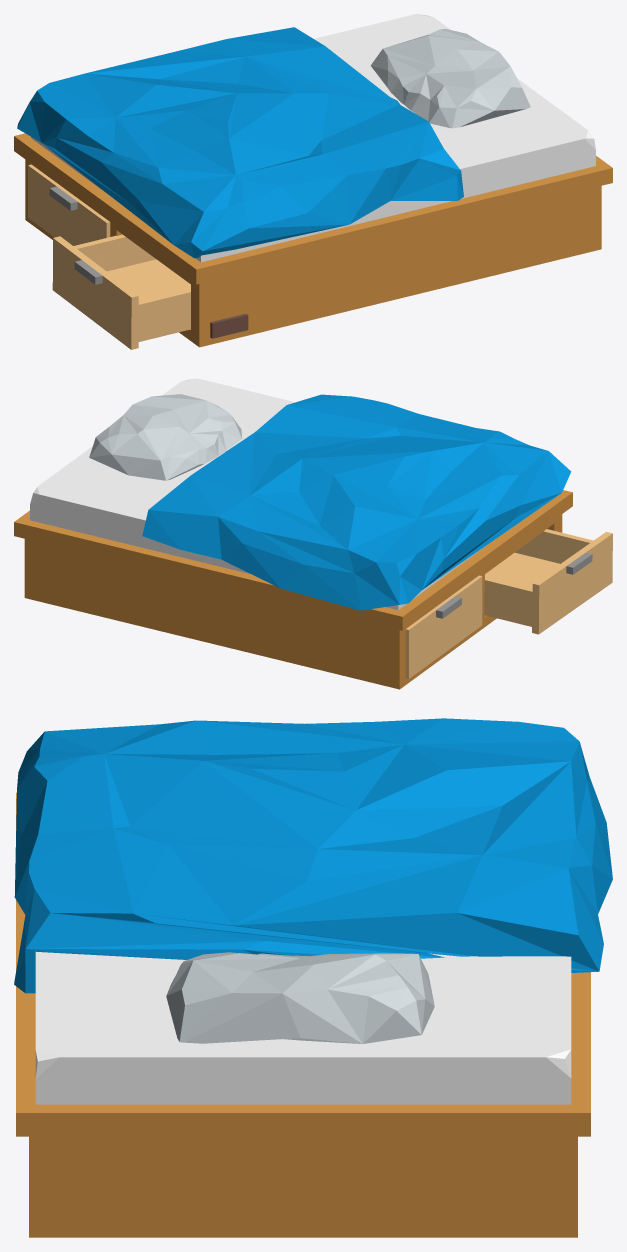
3 views of the same model, one above another, from view 1: azimuth 30°, elevation 25°; view 2: azimuth 150°, elevation 25°; view 3: azimuth 270°, elevation 25° (orthographic). The views are drawn at different scales.
Visible parts, largest first — view 1: mesh_650785582, mesh_873723508, mesh_226031731, mesh_1163561573, group_1793700176, mesh_1608457623, group_1022306024, mesh_1998901131; view 2: mesh_650785582, mesh_873723508, mesh_226031731, mesh_1163561573, group_1793700176, mesh_1608457623, group_1022306024; view 3: mesh_650785582, mesh_226031731, mesh_873723508, mesh_1163561573, mesh_1608457623.
Part boxes in pixels (x1,y1,x2,y2): mesh_650785582: (17, 27, 463, 258); mesh_873723508: (25, 159, 601, 347); mesh_226031731: (31, 14, 595, 262); mesh_1163561573: (14, 133, 612, 284); group_1793700176: (52, 234, 190, 349); mesh_1608457623: (370, 28, 530, 128); group_1022306024: (28, 164, 110, 245); mesh_1998901131: (210, 313, 248, 338); mesh_650785582: (142, 394, 571, 610); mesh_873723508: (24, 514, 562, 689); mesh_226031731: (30, 378, 489, 609); mesh_1163561573: (14, 490, 572, 630); group_1793700176: (484, 529, 612, 634); mesh_1608457623: (89, 394, 242, 480); group_1022306024: (405, 575, 482, 678); mesh_650785582: (14, 718, 612, 993); mesh_226031731: (35, 951, 571, 1104); mesh_873723508: (29, 1136, 577, 1237); mesh_1163561573: (16, 792, 590, 1136); mesh_1608457623: (166, 952, 434, 1043).
Size of the model in its own units: 66.5 by 19.88 by 45.84.
